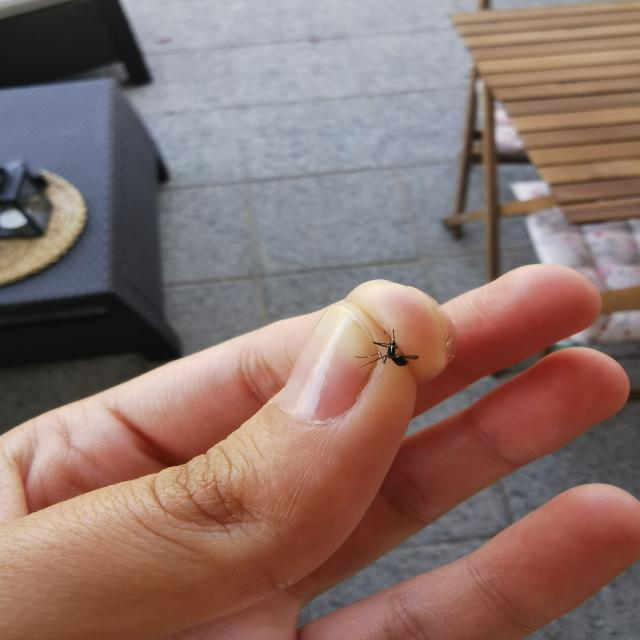albopictus: (352, 321, 422, 374)
